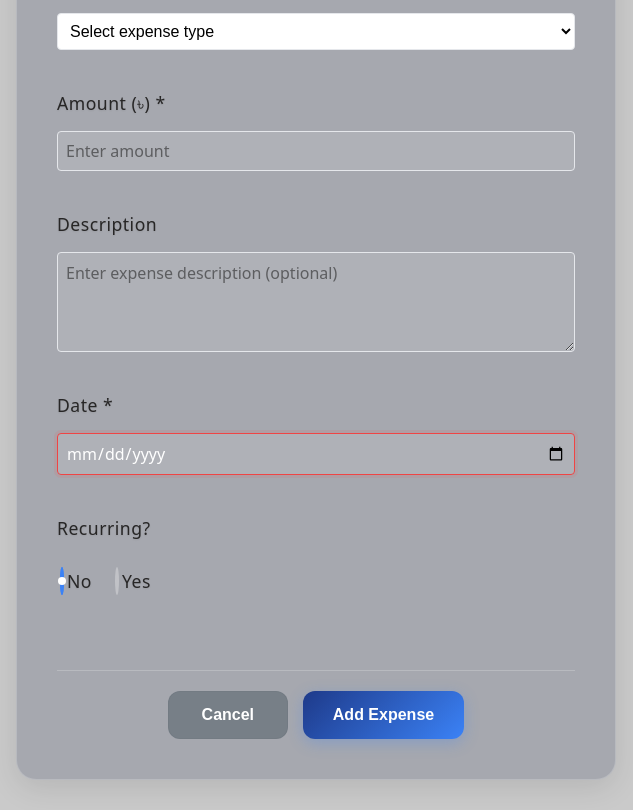
it: AddExpense Component › hides recurrence type when recurring is set to no
(page scrolled)
expect the text "Recurring?" is shown: met, box [57,516,151,540]
// First select "Yes" for recurring
Step 1. Click the radio button labelled "Yes" → (131, 581), box [112,561,151,601]
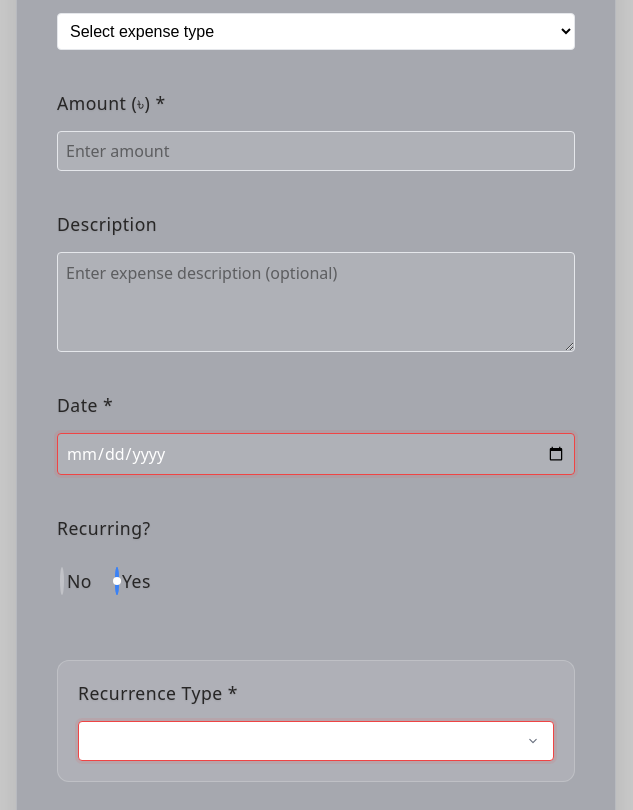
expect the dropdown labelled "Recurrence Type *" is shown: met, box [78,721,554,761]
// Then select "No" for recurring
Step 2. Click the radio button labelled "No" → (74, 581), box [57,561,92,601]
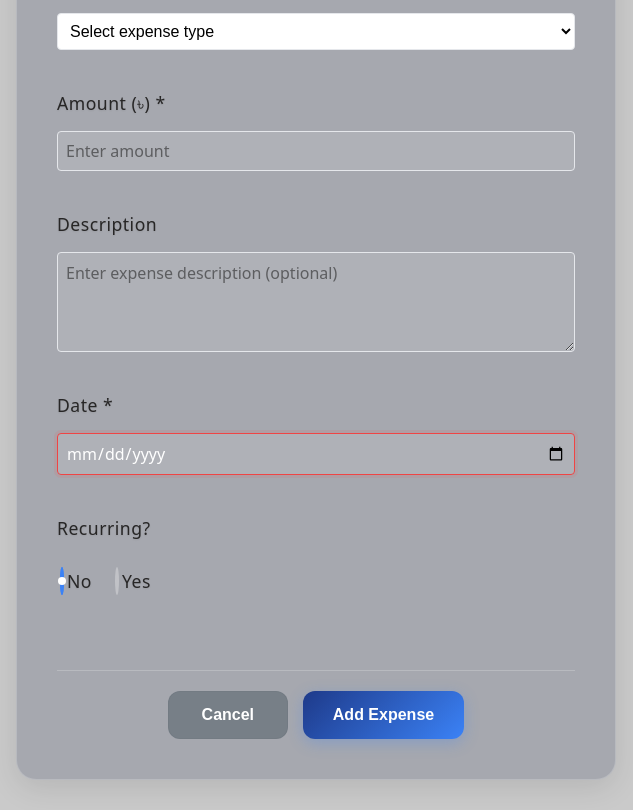
expect the label labelled "Recurrence Type" is gone: met
